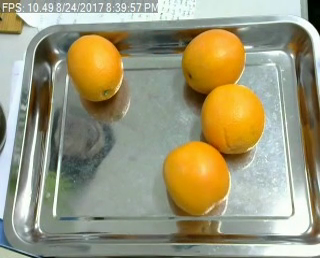Orange: (161, 141, 231, 214), (200, 83, 263, 154), (182, 28, 245, 92), (67, 35, 123, 101)
